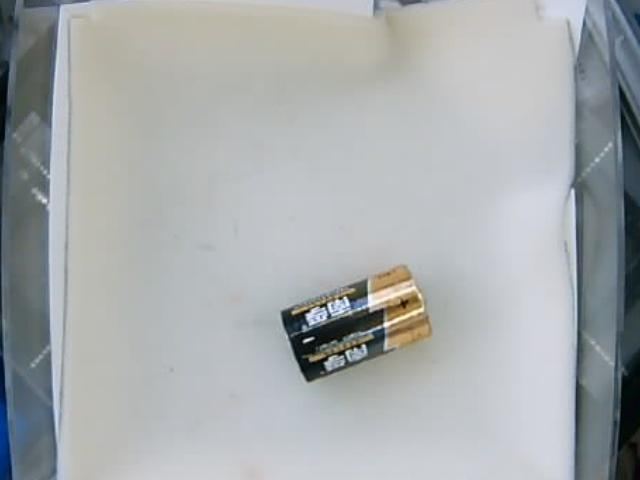Battery: (281, 263, 434, 382)
